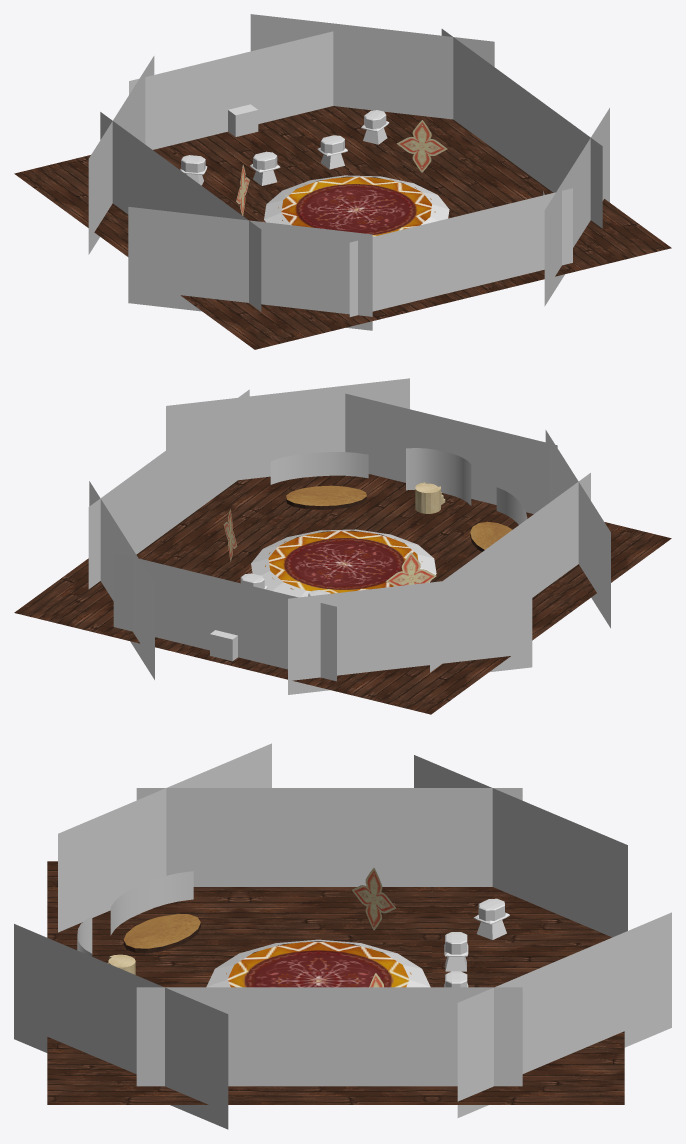
The model's file is Makyung_Scene_00.fbx.
3 views of the same model, one above another, from view 1: azimuth 30°, elevation 25°; view 2: azimuth 150°, elevation 25°; view 3: azimuth 270°, elevation 25° (orthographic). The views are drawn at different scales.
Parts seen in each view (by area): view 1: Environment, Plane.004, Plane.009, Plane.010, Plane.005, Plane.006, Plane.003, Plane.008, Plane.007, Climbing, Door; view 2: Environment, Plane.007, Plane.010, Plane.009, Plane.006, Plane.008, Plane.003, Plane.004, Plane.005, Plane, Plane.001, Climbing (+2 smaller); view 3: Environment, Plane.003, Plane.006, Plane.008, Plane.005, Plane.007, Plane.004, Plane.002, Climbing.
Boxes of the visible parts, left/top/right/bottom form: Environment: left=14, top=106, right=671, bottom=349; Plane.004: left=128, top=207, right=372, bottom=330; Plane.009: left=349, top=188, right=572, bottom=316; Plane.010: left=129, top=31, right=333, bottom=149; Plane.005: left=250, top=14, right=494, bottom=119; Plane.006: left=441, top=29, right=602, bottom=228; Plane.003: left=100, top=112, right=261, bottom=311; Plane.008: left=544, top=108, right=609, bottom=306; Plane.007: left=88, top=56, right=154, bottom=254; Climbing: left=264, top=175, right=449, bottom=225; Door: left=228, top=104, right=258, bottom=136; Environment: left=14, top=474, right=671, bottom=714; Plane.007: left=288, top=571, right=532, bottom=694; Plane.010: left=113, top=552, right=336, bottom=681; Plane.009: left=345, top=393, right=557, bottom=513; Plane.006: left=88, top=389, right=249, bottom=589; Plane.008: left=166, top=378, right=409, bottom=480; Plane.003: left=430, top=473, right=590, bottom=672; Plane.004: left=545, top=430, right=610, bottom=628; Plane.005: left=89, top=481, right=154, bottom=679; Plane: left=406, top=448, right=471, bottom=505; Plane.001: left=270, top=452, right=368, bottom=484; Climbing: left=251, top=529, right=436, bottom=597; Environment: left=47, top=861, right=624, bottom=1104; Plane.003: left=136, top=788, right=522, bottom=886; Plane.006: left=136, top=987, right=522, bottom=1086; Plane.008: left=14, top=924, right=228, bottom=1129; Plane.005: left=457, top=912, right=671, bottom=1117; Plane.007: left=414, top=755, right=627, bottom=937; Plane.004: left=58, top=743, right=271, bottom=932; Plane.002: left=110, top=871, right=193, bottom=935; Climbing: left=206, top=939, right=430, bottom=987.
Size of the model in its own units: 4093 by 856 by 4202.
Materials: 4 (1 with a texture image).
